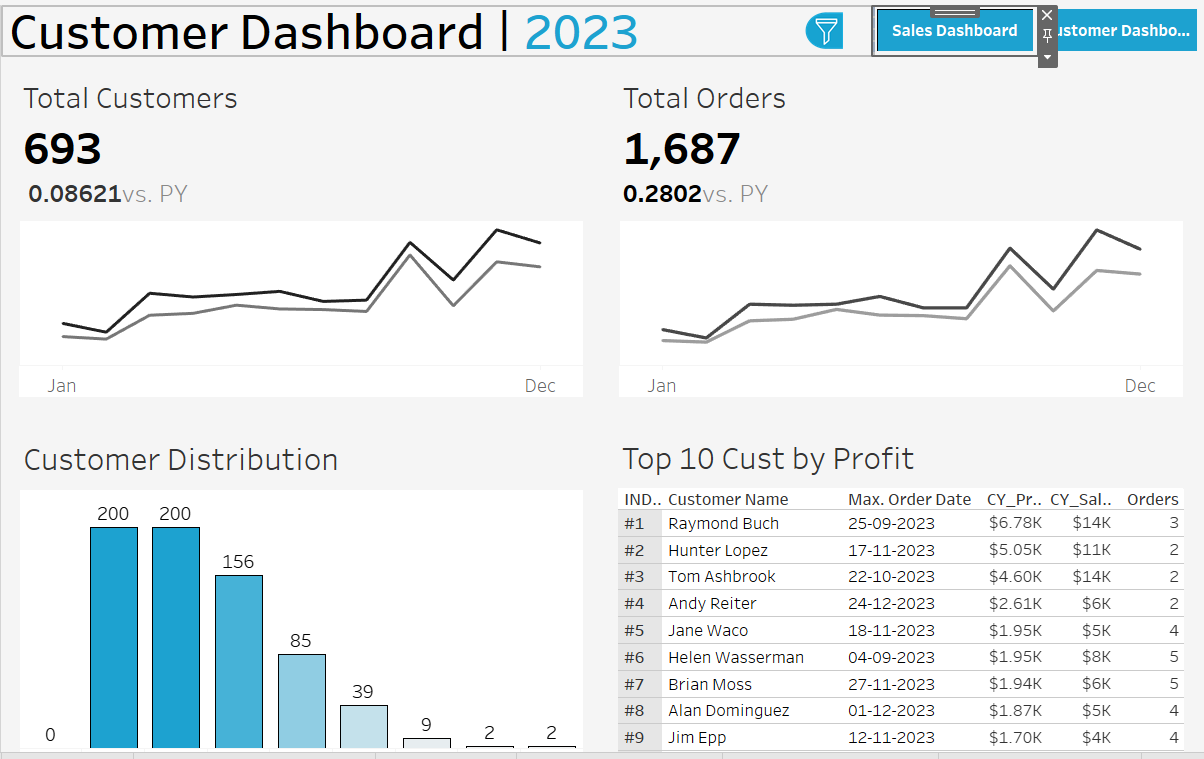

The dashboard page shown, as its layout file describes it:
{"tool":"tableau","page":{"name":"Cust_Dashboard","canvas":[1200,800],"ordinal":0},"visuals":[{"type":"text","box":[0,0,872,50]},{"type":"dashboard-object","box":[872,0,164,50]},{"type":"dashboard-object","box":[1036,0,164,50]},{"type":"dashboard-object","box":[772,6,100,39]},{"type":"worksheet","title":"Total_Customers","mark":"Line","cols":["Order Date"],"box":[0,50,600,360]},{"type":"worksheet","title":"Total_Orders","mark":"Line","cols":["Order Date"],"box":[600,50,600,360]},{"type":"parameter","param":"[Parameters].[Parameter 1]","box":[660,63,198,65]},{"type":"filter","title":"Customer_Distribution","param":"[federated.14xewbv0p6g65f1a1z9cr1s73tyz].[none:Category:nk]","box":[660,128,198,70]},{"type":"filter","title":"Customer_Distribution","param":"[federated.14xewbv0p6g65f1a1z9cr1s73tyz].[none:Sub-Category:nk]","box":[660,198,198,70]},{"type":"worksheet","title":"Customer_Distribution","mark":"Bar","rows":["Calculation_289074842360025112"],"cols":["Calculation_289074842383446055"],"box":[0,410,600,380]},{"type":"worksheet","title":"Top 10 Cust by Profit","mark":"Automatic","rows":["Calculation_289074842398629930","Customer Name","Order Date"],"box":[600,410,600,380]},{"type":"blank","box":[0,790,1200,10]}]}

Visuals, with their boxes on the page's 1200x800 design canvas (x1, y1, x2, y2). These are canvas units, not pixel positions in the 1204x759 screenshot, which may show the page scaled, cropped or inside an application window:
text: left=0, top=0, right=872, bottom=50
dashboard-object: left=872, top=0, right=1036, bottom=50
dashboard-object: left=1036, top=0, right=1200, bottom=50
dashboard-object: left=772, top=6, right=872, bottom=45
"Total_Customers" worksheet (Line marks): left=0, top=50, right=600, bottom=410
"Total_Orders" worksheet (Line marks): left=600, top=50, right=1200, bottom=410
parameter: left=660, top=63, right=858, bottom=128
"Customer_Distribution" filter: left=660, top=128, right=858, bottom=198
"Customer_Distribution" filter: left=660, top=198, right=858, bottom=268
"Customer_Distribution" worksheet (Bar marks): left=0, top=410, right=600, bottom=790
"Top 10 Cust by Profit" worksheet: left=600, top=410, right=1200, bottom=790
blank: left=0, top=790, right=1200, bottom=800
